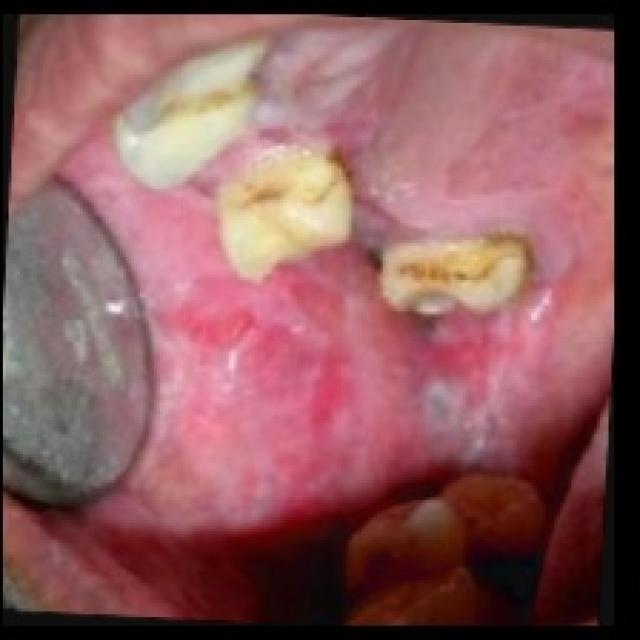leukoplakia-like-detection: (66, 136, 615, 508), (264, 15, 615, 288)
processing_area: (38, 17, 612, 620)
